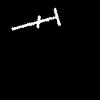double_crochet: (12, 8, 60, 29)
